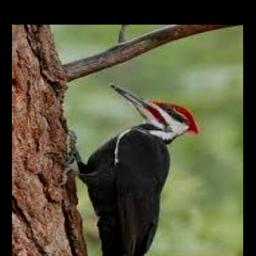Woodpecker: (51, 83, 199, 256)
